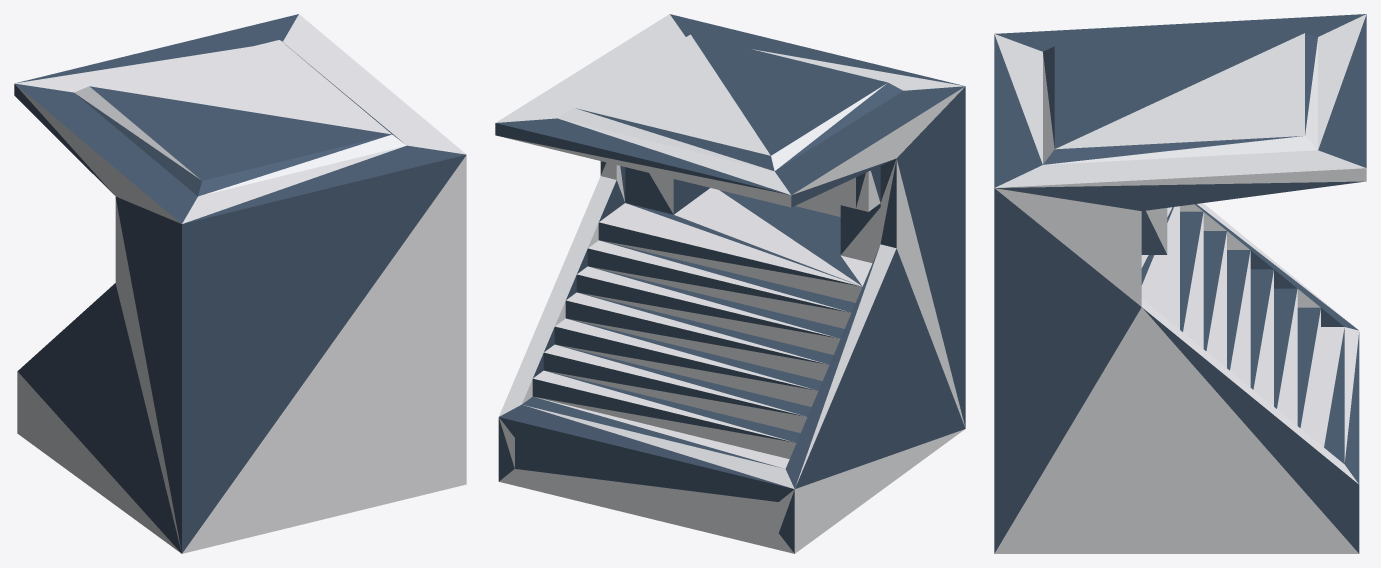
File: grandStandCovered.glb
The picture shows the model from 3 angles, left to right: view 1: azimuth 30°, elevation 25°; view 2: azimuth 150°, elevation 25°; view 3: azimuth 270°, elevation 25°; orthographic projection. The views are drawn at different scales.
Parts seen in each view (by area): view 1: grandStandCovered; view 2: grandStandCovered; view 3: grandStandCovered.
Boxes of the visible parts, x1,y1,x2,y2 form: grandStandCovered: (14,14,466,553); grandStandCovered: (495,14,965,553); grandStandCovered: (994,14,1366,553).
Size of the model in its own units: 10 by 11.86 by 10.2.
